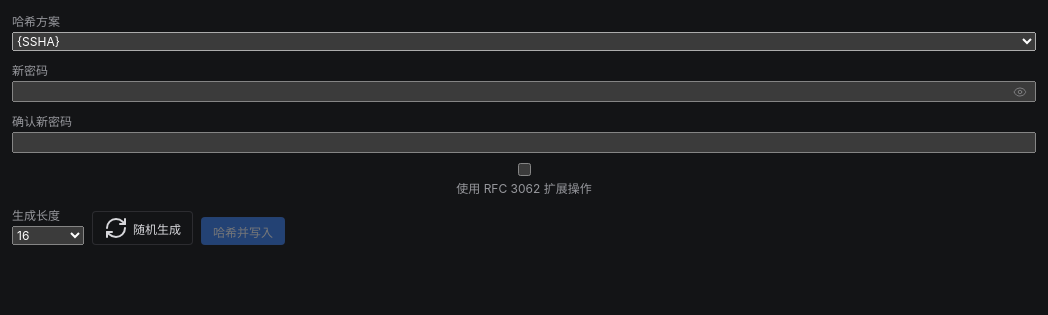
PasswordAttributeEditor extended operation (RFC 3062) › reveals the identity and old-password fields when the mode is switched on
The width and height of the screenshot is (1048, 315).
Click the checkbox labelled "使用 RFC 3062 扩展操作" at (524, 170), box [518,163,530,176]
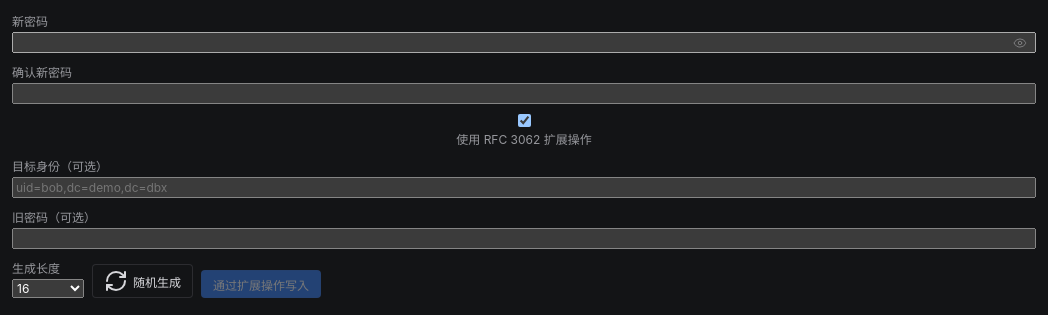
Check: the element showing "目标身份（可选） 旧密码（可选）" is shown, box [12,157,1036,249]
Check: the field labelled "目标身份（可选）" is shown, box [12,177,1036,198]
Click the checkbox labelled "使用 RFC 3062 扩展操作" at (524, 120), box [518,114,530,127]
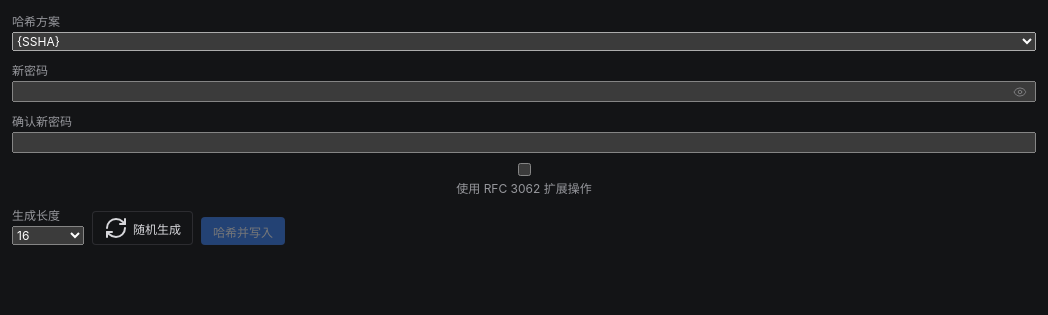
Check: the dropdown labelled "哈希方案" is shown, box [12,32,1036,51]
